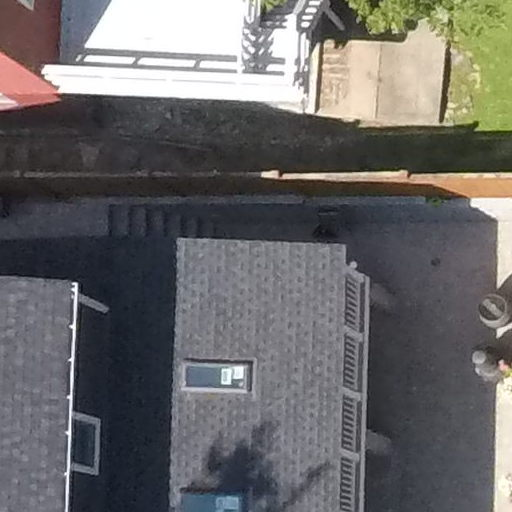container: (474, 286, 510, 331)
